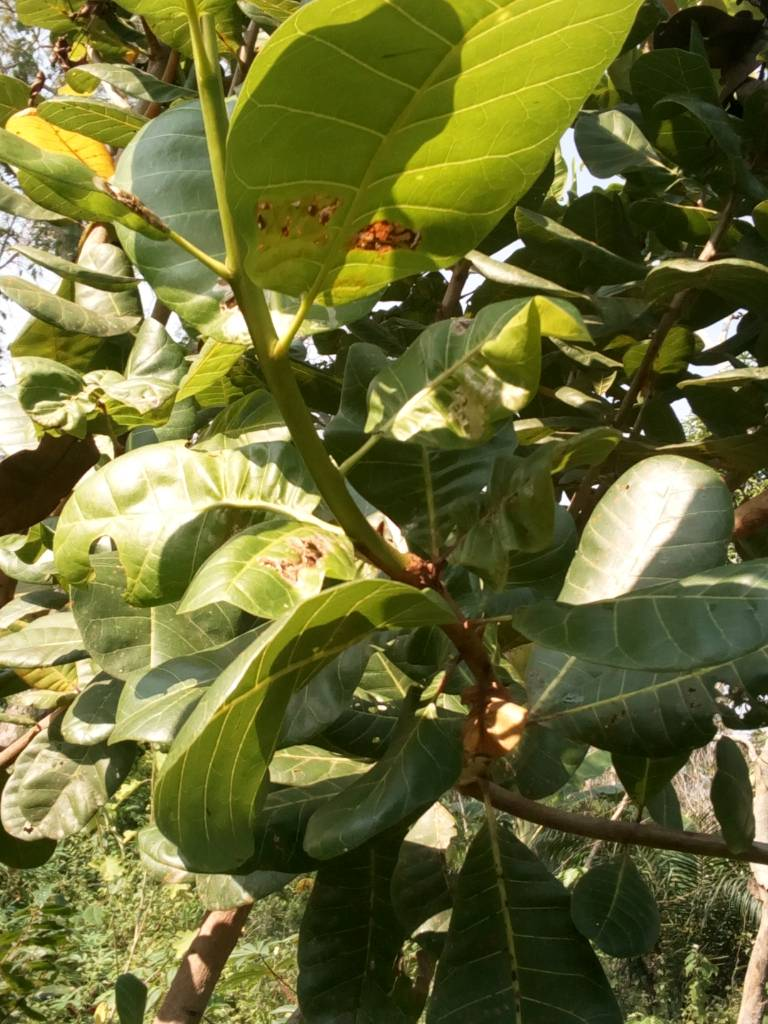Dysdercus wolkerii: (218, 1, 641, 314)
